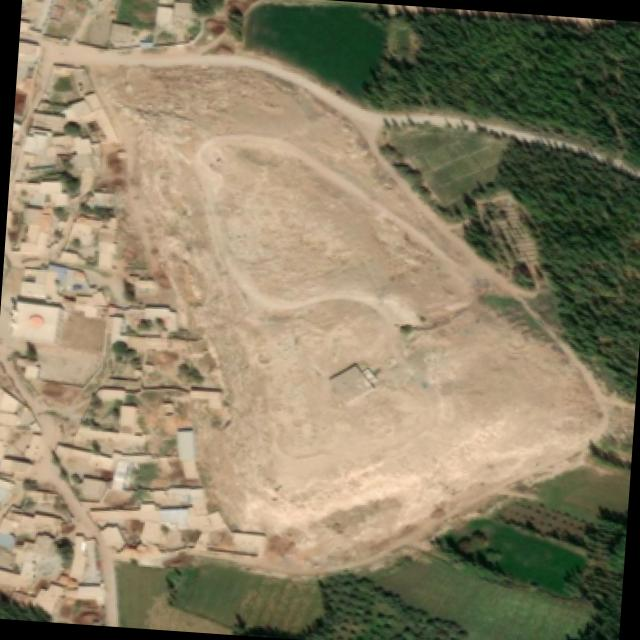artifacts: (72, 406, 238, 572), (90, 302, 218, 439), (5, 162, 120, 296), (0, 523, 67, 589), (50, 442, 121, 500), (32, 0, 95, 43), (0, 394, 34, 470)
ruins: (210, 284, 433, 480), (228, 281, 410, 353), (204, 134, 304, 188)
vegetation: (450, 136, 640, 390), (368, 7, 640, 160), (415, 485, 627, 640), (367, 9, 470, 96), (111, 0, 160, 33)
